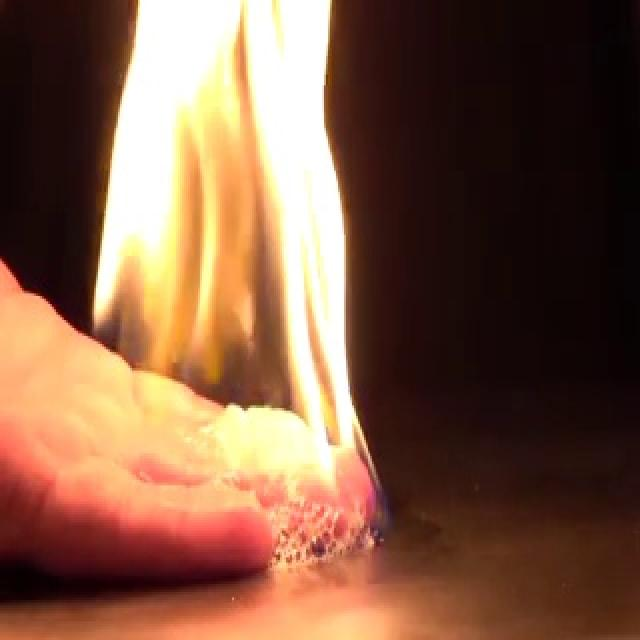fire: (74, 0, 377, 530)
